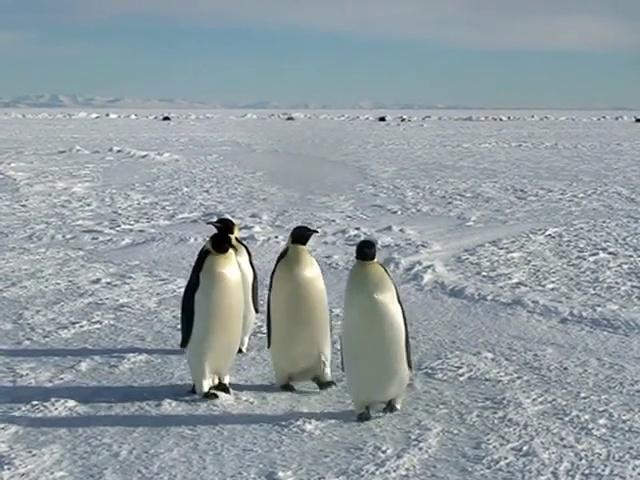animal: (342, 240, 410, 420)
